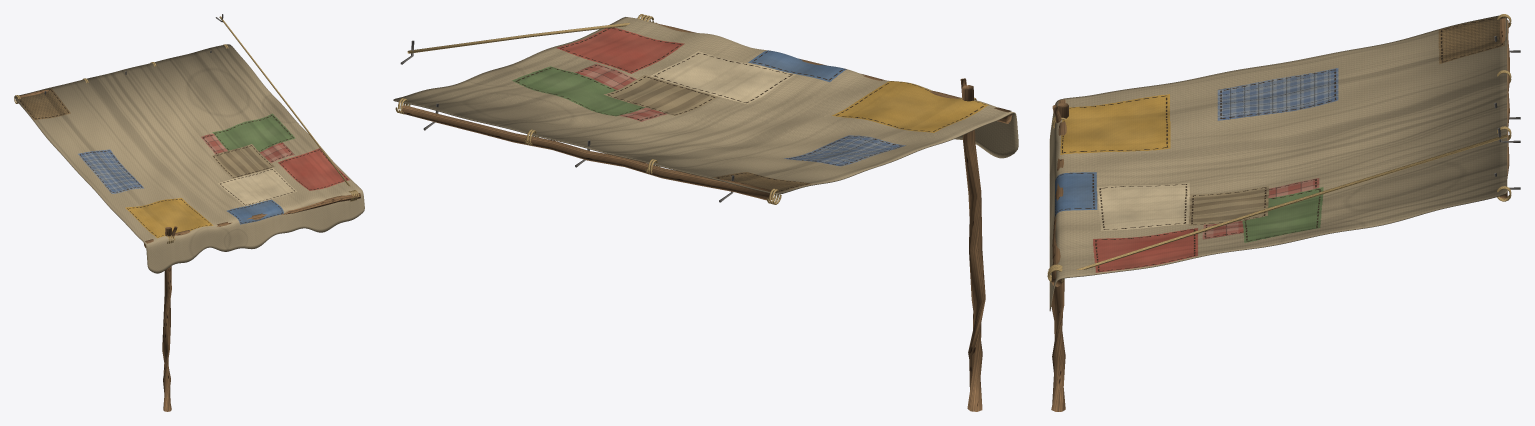
The model's file is barraco.gltf.
3 renders of one model, left to right at view 1: azimuth 30°, elevation 25°; view 2: azimuth 150°, elevation 25°; view 3: azimuth 270°, elevation 25°, orthographic. The views are drawn at different scales.
Visible parts, largest first — view 1: Lona, EstacaFundo, Travessa, CordaDaPonta; view 2: Lona, EstacaFundo, Varao, CordaDaPonta; view 3: Lona, EstacaFundo, CordaDaPonta, Travessa, Varao.
Boxes of the visible parts, left/top/right/bottom form: Lona: left=14, top=44, right=364, bottom=273; EstacaFundo: left=162, top=227, right=171, bottom=411; Travessa: left=144, top=193, right=360, bottom=247; CordaDaPonta: left=219, top=16, right=350, bottom=186; Lona: left=393, top=17, right=1018, bottom=194; EstacaFundo: left=962, top=85, right=985, bottom=411; Varao: left=402, top=105, right=772, bottom=200; CordaDaPonta: left=407, top=22, right=629, bottom=53; Lona: left=1049, top=15, right=1507, bottom=311; EstacaFundo: left=1051, top=102, right=1068, bottom=411; CordaDaPonta: left=1076, top=134, right=1507, bottom=269; Travessa: left=1051, top=99, right=1066, bottom=286; Varao: left=1499, top=18, right=1509, bottom=198.
Bounding box in the file's own units: 2.56 × 2.88 × 2.85.
Materials: 4 (3 with a texture image).
